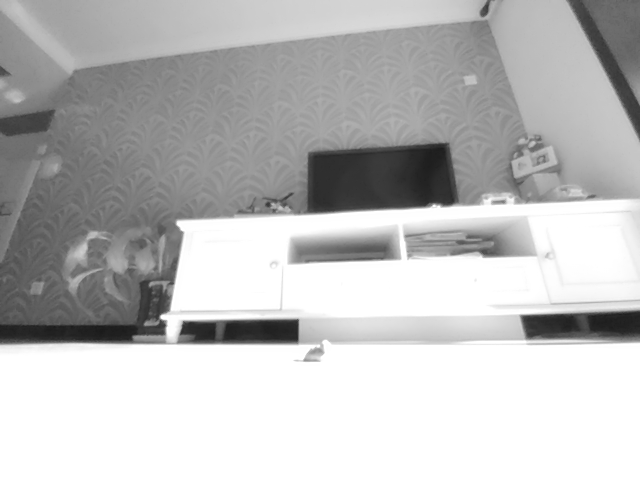pet feces: (304, 340, 331, 364)
